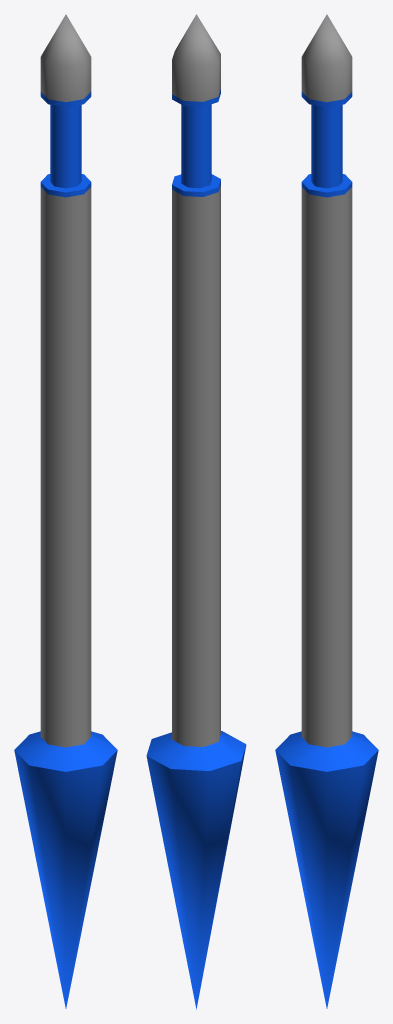
Rendered from Dest_PowerPlant_LightningRod.FBX.
3 views of the same model, side by side, from view 1: azimuth 90°, elevation 25°; view 2: azimuth 150°, elevation 25°; view 3: azimuth 270°, elevation 25° (orthographic).
Parts seen in each view (by area): view 1: Object001; view 2: Object001; view 3: Object001.
Boxes of the visible parts, left/top/right/bottom form: Object001: left=14, top=14, right=117, bottom=1008; Object001: left=146, top=14, right=246, bottom=1009; Object001: left=275, top=14, right=378, bottom=1008.
Bounding box in the file's own units: 4.18 × 44.4 × 4.18.
